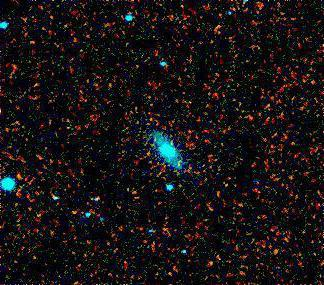star: (205, 12, 235, 42)
